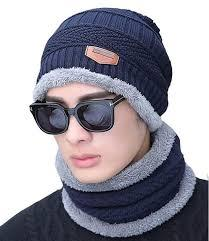cap: (31, 4, 176, 119)
sunglasses: (27, 93, 121, 136)
